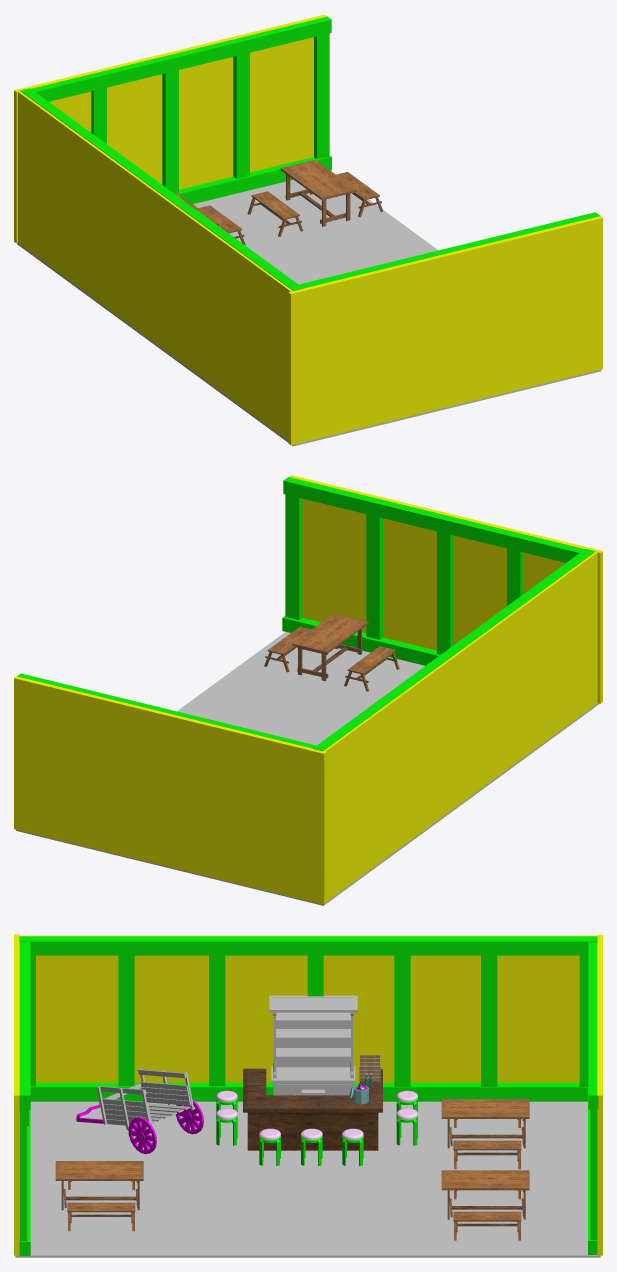
The model's file is cowboybar-ACT2.fbx.
3 views of the same model, one above another, from view 1: azimuth 30°, elevation 25°; view 2: azimuth 150°, elevation 25°; view 3: azimuth 270°, elevation 25° (orthographic). The views are drawn at different scales.
Parts seen in each view (by area): view 1: polySurface729, polySurface728, polySurface727, polySurface561, polySurface726, polySurface1148.001, polySurface1147.001, polySurface1149.001; view 2: polySurface727, polySurface728, polySurface729, polySurface561, polySurface726, polySurface1148.002, polySurface1147.002, polySurface1149.002; view 3: polySurface726, polySurface728, polySurface561, polySurface950, polySurface762, polySurface1148.001, polySurface1148, polySurface1148.002, polySurface1051, polySurface1043, polySurface729, polySurface727 (+13 smaller).
Part boxes in pixels (x1,y1,x2,y2): polySurface729: [288, 216, 602, 445]; polySurface728: [18, 90, 295, 440]; polySurface727: [14, 14, 327, 243]; polySurface561: [20, 16, 599, 290]; polySurface726: [17, 179, 601, 446]; polySurface1148.001: [280, 159, 356, 226]; polySurface1147.001: [247, 191, 303, 236]; polySurface1149.001: [336, 172, 383, 217]; polySurface727: [14, 676, 326, 904]; polySurface728: [321, 550, 599, 901]; polySurface729: [289, 475, 602, 703]; polySurface561: [17, 477, 595, 750]; polySurface726: [16, 632, 599, 905]; polySurface1148.002: [292, 613, 368, 680]; polySurface1147.002: [344, 646, 399, 691]; polySurface1149.002: [264, 626, 311, 672]; polySurface726: [15, 1101, 600, 1257]; polySurface728: [15, 935, 597, 1082]; polySurface561: [19, 936, 598, 1255]; polySurface950: [243, 1068, 382, 1150]; polySurface762: [76, 1068, 203, 1154]; polySurface1148.001: [441, 1170, 529, 1219]; polySurface1148: [441, 1099, 529, 1148]; polySurface1148.002: [55, 1161, 143, 1210]; polySurface1051: [271, 1066, 355, 1095]; polySurface1043: [276, 1022, 350, 1067]; polySurface729: [14, 934, 19, 1255]; polySurface727: [597, 935, 602, 1255].
Size of the model in its own units: 15.64 by 7.35 by 24.04.
